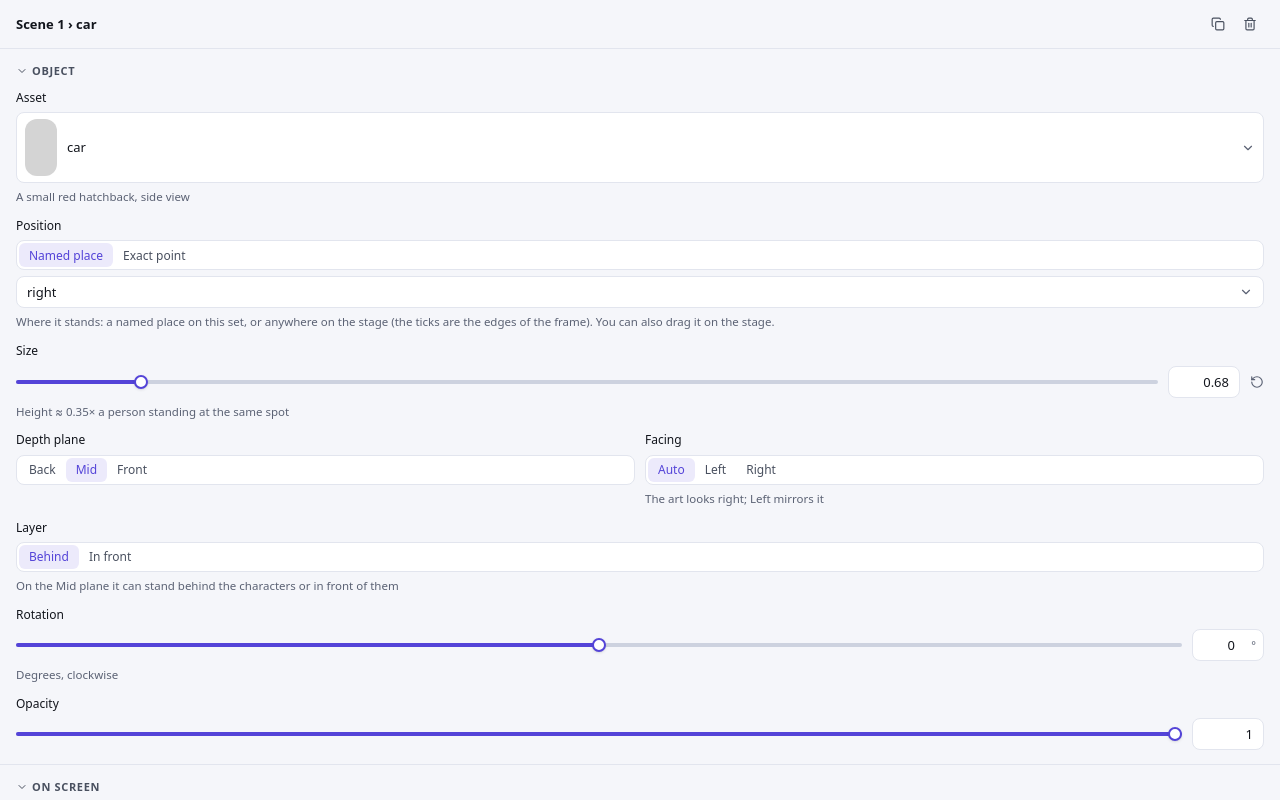
the inspector of an object › moves between a named place and exact numbers without the object jumping
Click the radio button labelled "Exact point": (154, 255) [113,243,196,267]
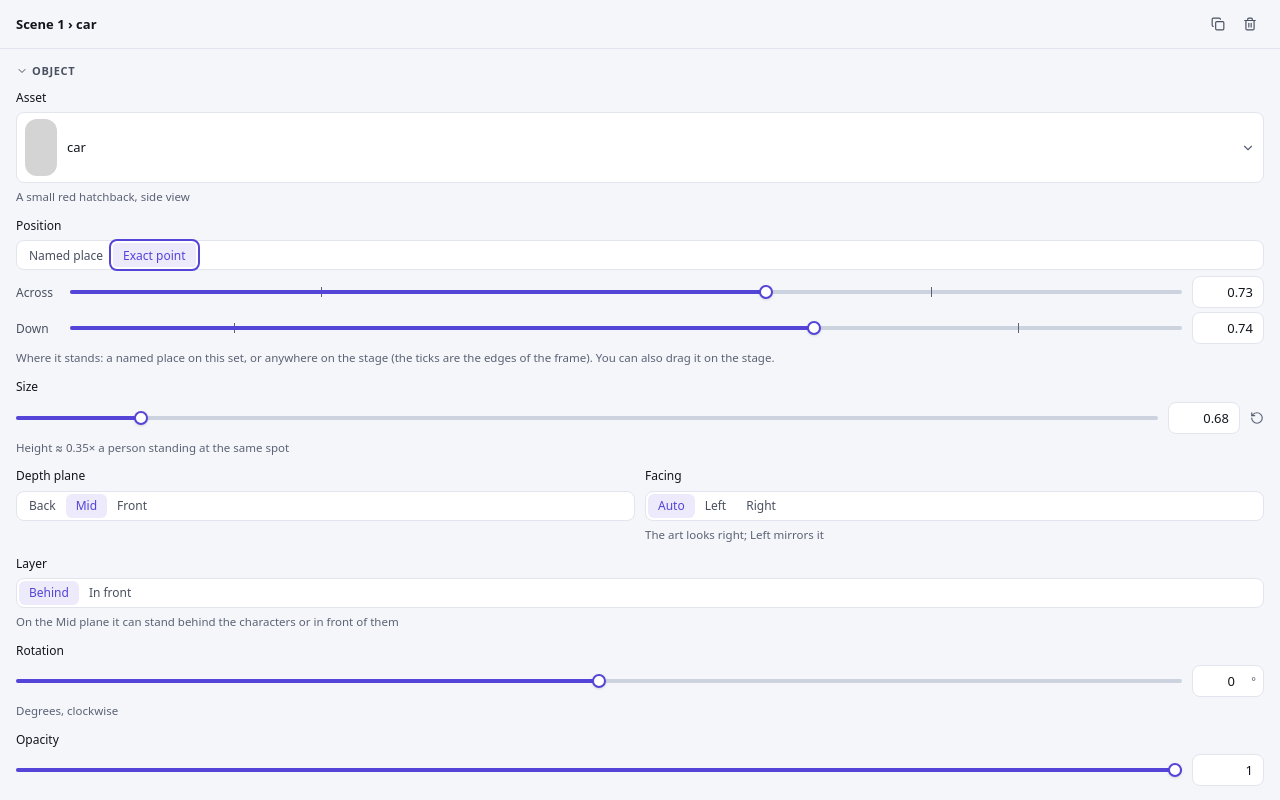
Replace the text in the field named "Position x" with "0.4": (1228, 292) [1192,276,1264,308]
Then press Enter
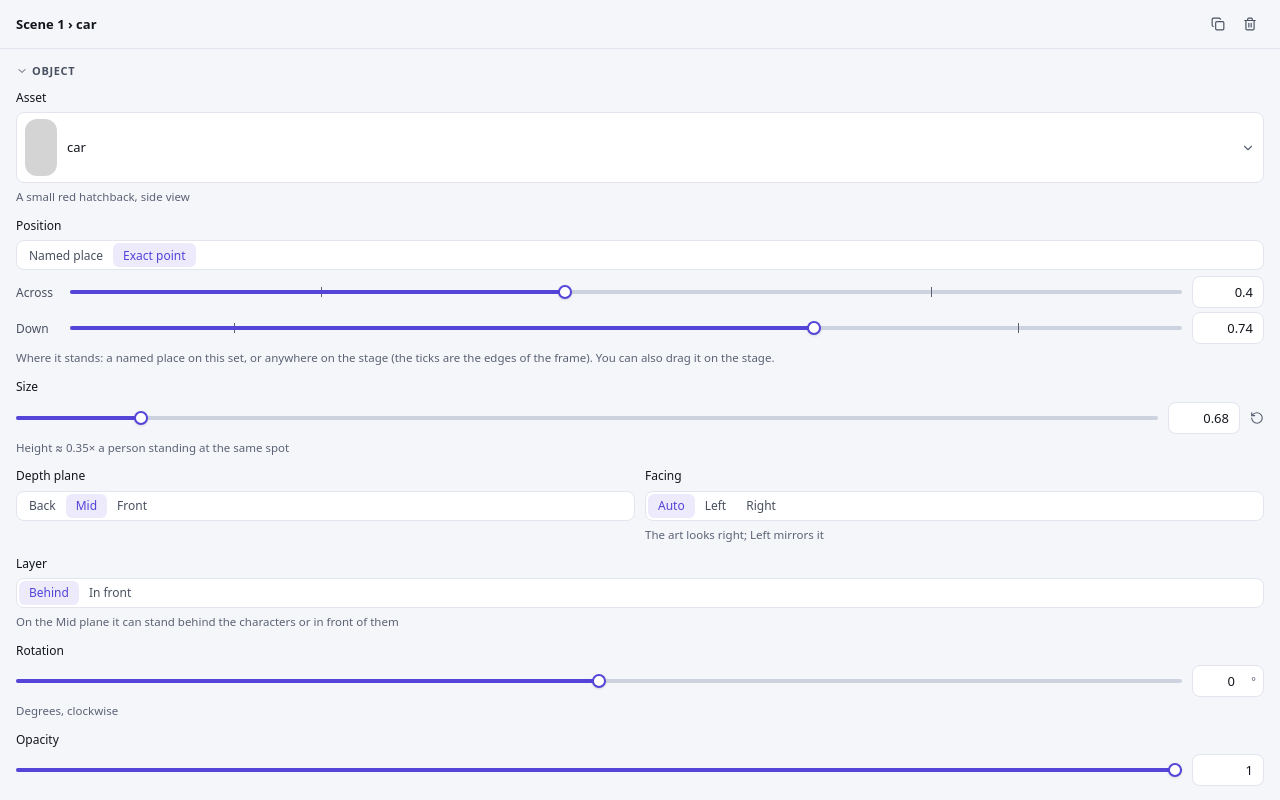
Click the radio button labelled "Named place": (66, 255) [19,243,113,267]
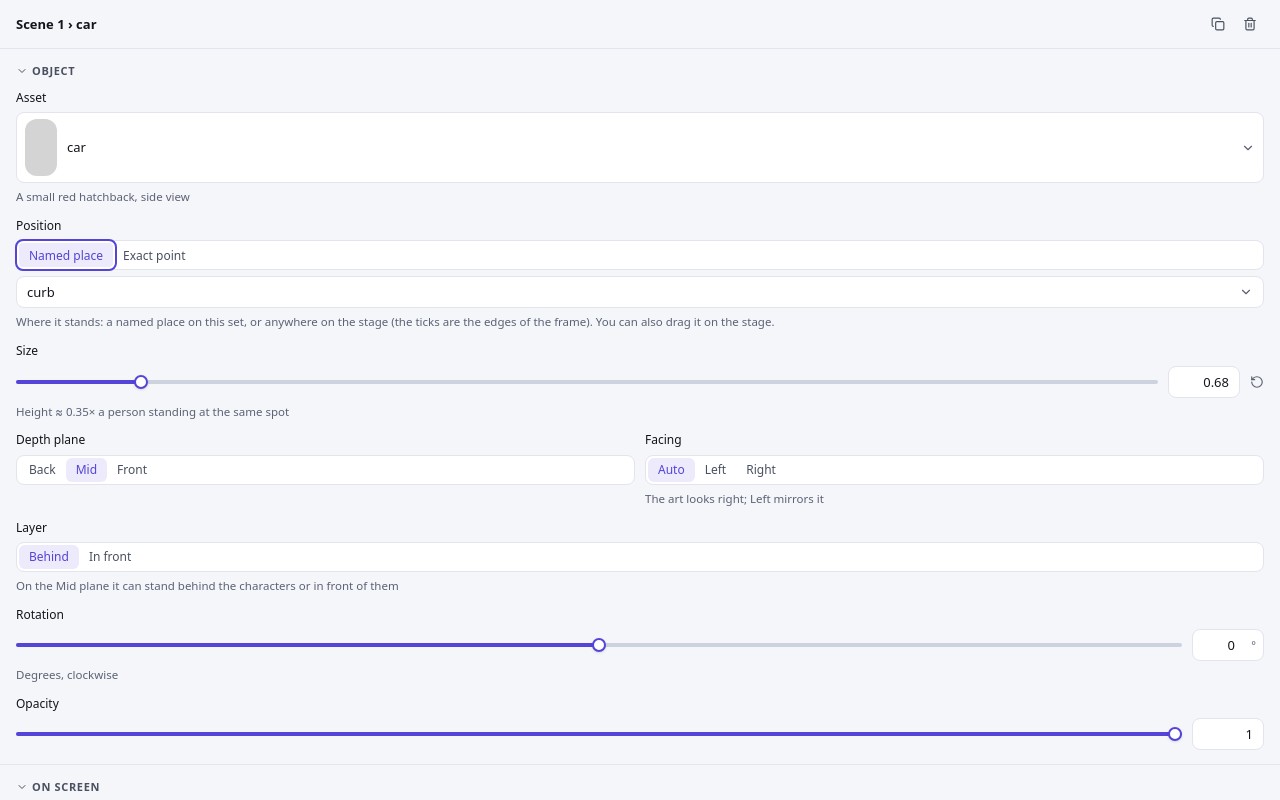
expect the text "curb" is shown: met, box [27,283,55,301]
